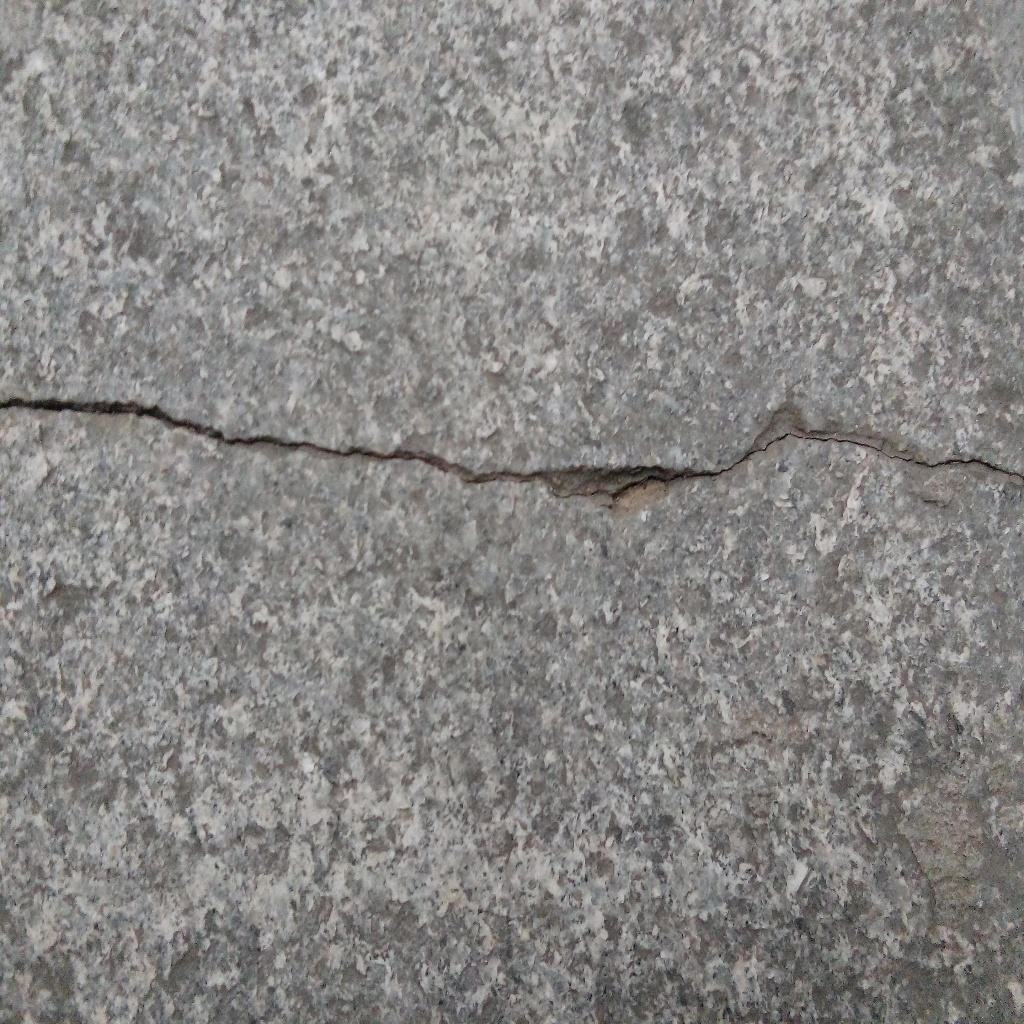Crack: (1, 393, 1024, 522)
